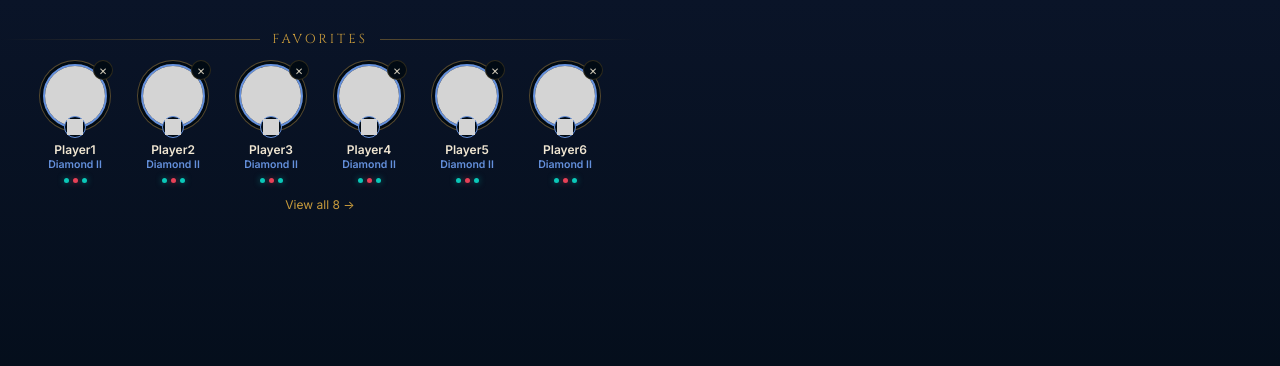
FavoritesList › shows six favorites and hides the rest behind View all
Expected: the text "Player6" is shown, x1=543 y1=142 x2=587 y2=157
Expected: the text "Player7" is not shown
Click the button "View all 8 →": point(320, 204) x1=285 y1=197 x2=355 y2=212
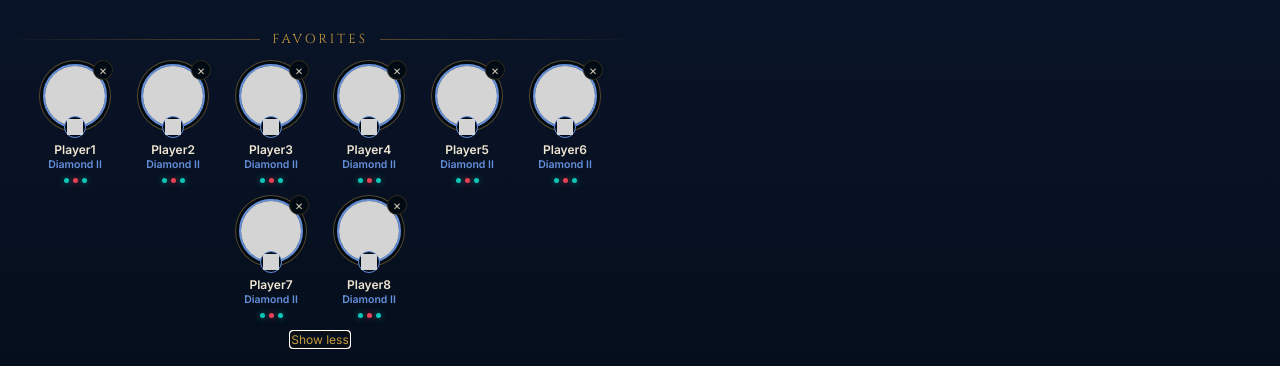
Expected: the text "Player8" is shown, x1=347 y1=277 x2=391 y2=292
Expected: the button "Show less" is shown, x1=291 y1=332 x2=349 y2=347
